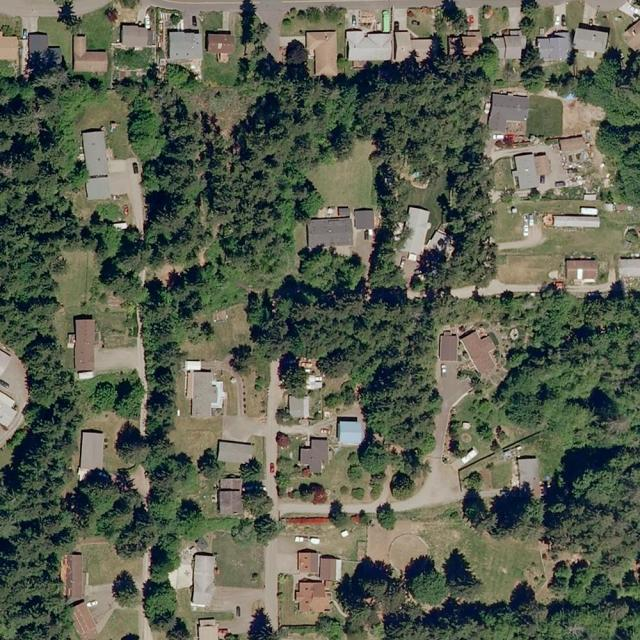greenland: (124, 43, 365, 296), (0, 70, 94, 639), (495, 291, 640, 569), (352, 48, 508, 296), (351, 161, 442, 497), (244, 244, 367, 361)
